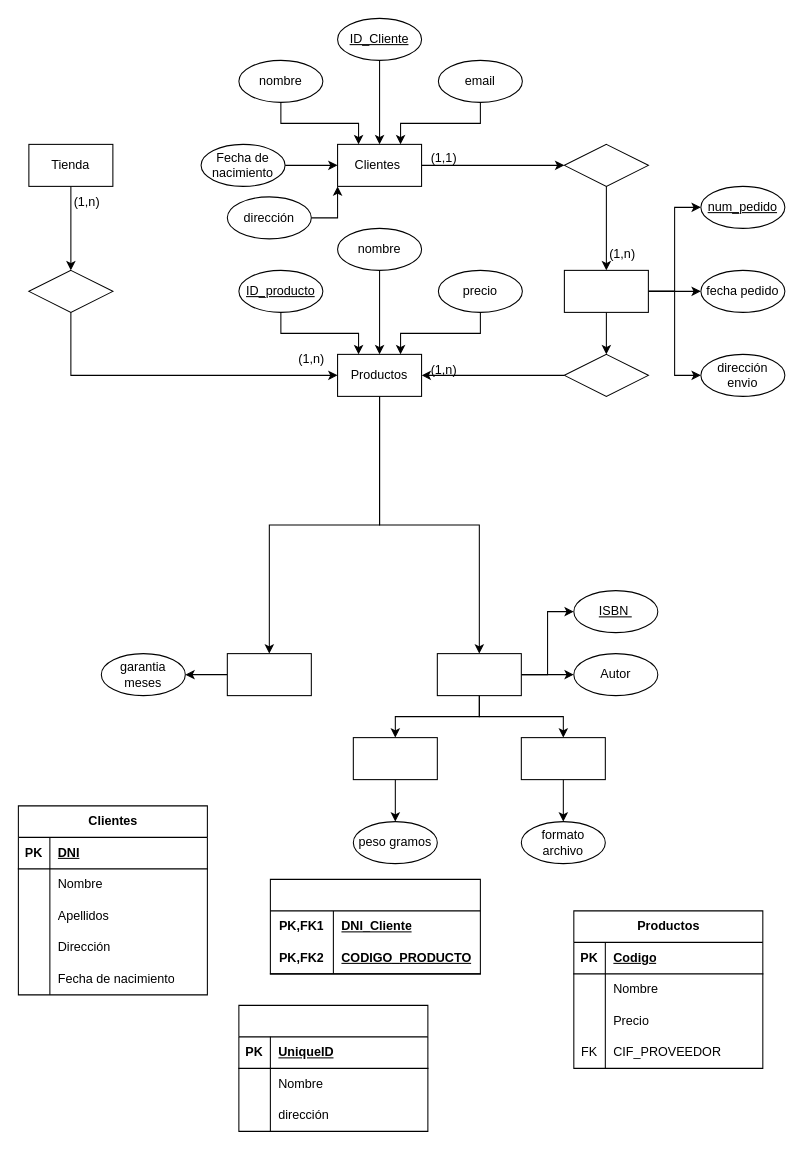
Image size: 803x1150. Some labels were removed from this diagram. Each missing label, with the box of its shape:
CIF: (238, 1004, 428, 1131)
compras: (269, 878, 480, 974)
Electronica: (226, 653, 311, 696)
Libros: (436, 653, 521, 696)
Libros digitales: (520, 737, 605, 780)
Libros fisicos: (352, 737, 437, 780)
Pedidos: (563, 269, 648, 312)
Realiza: (563, 143, 648, 186)
Tiene: (563, 353, 648, 396)
Vende: (28, 269, 113, 312)
